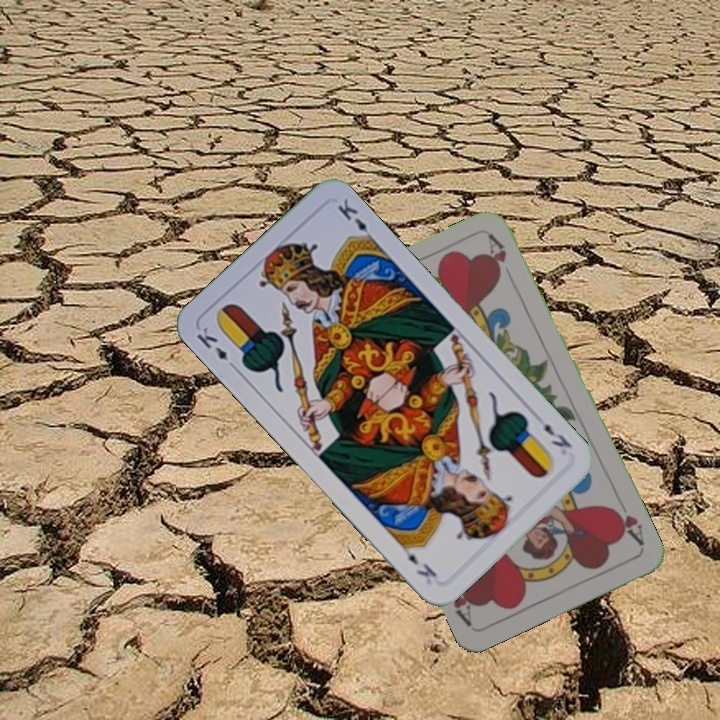EK: (192, 322, 240, 373), (539, 419, 575, 451)
HA: (607, 502, 647, 549)
